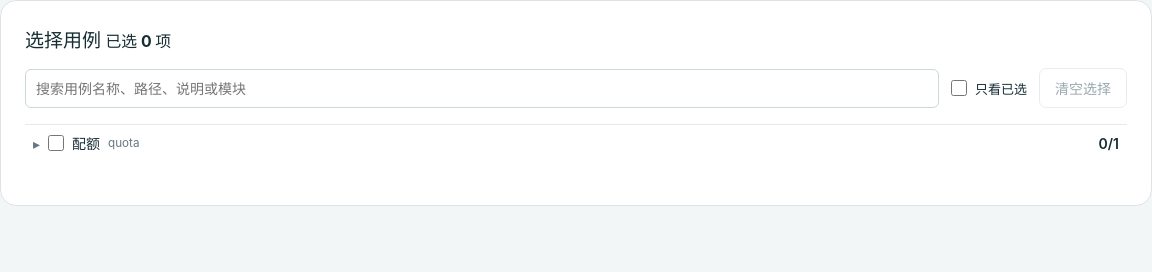
Test: case number search keeps the matching row without an empty warning
Type "Q1" into the search field labelled "搜索用例". click: (482,88)
box: [25,68,939,108]
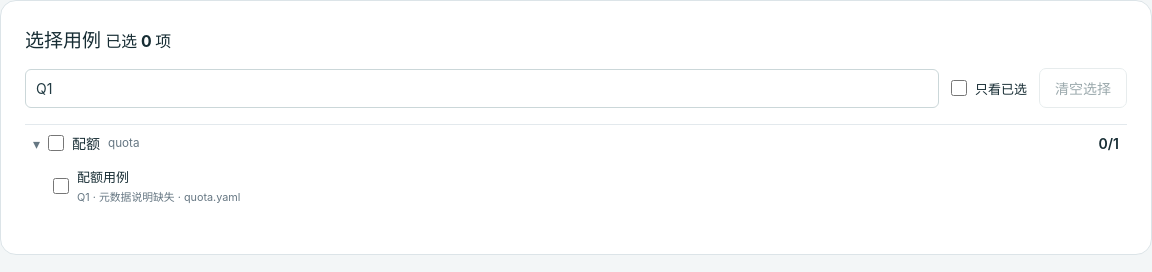
Expected: the text "配额用例" is shown, [77,169,129,185]
